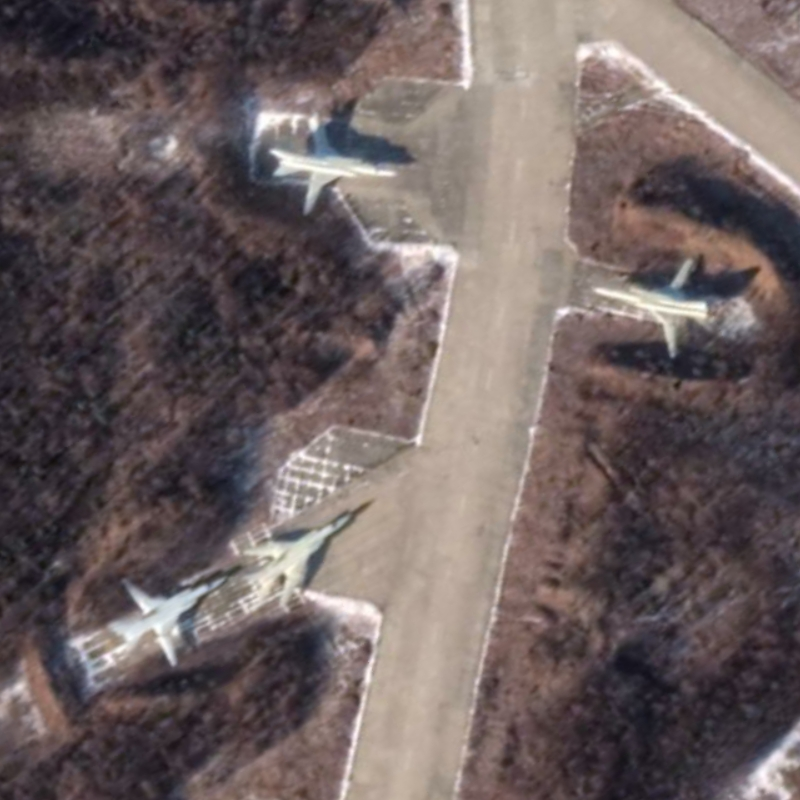A12: (239, 497, 372, 611), (265, 111, 403, 219), (591, 256, 711, 359), (106, 571, 232, 668)
